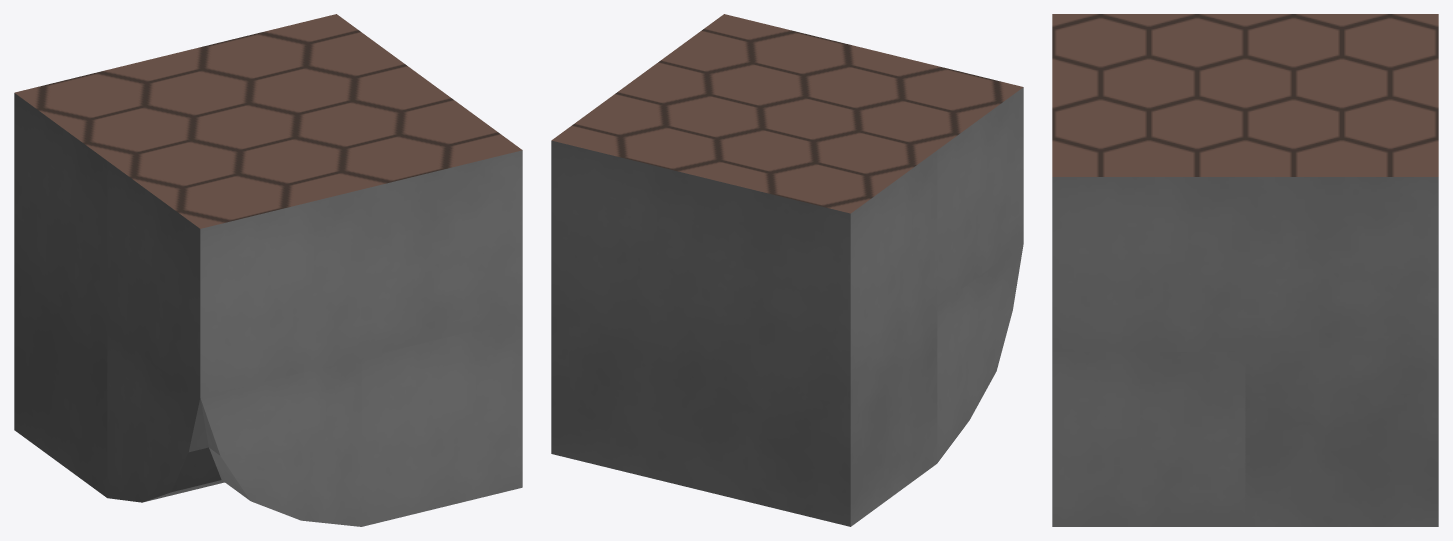
File: dc_metro_mezzanine_4d.obj
3 views of the same model, side by side, from view 1: azimuth 30°, elevation 25°; view 2: azimuth 150°, elevation 25°; view 3: azimuth 270°, elevation 25° (orthographic). The views are drawn at different scales.
Parts seen in each view (by area): view 1: cube; view 2: cube; view 3: cube.
Boxes of the visible parts, x1=… form: cube: x1=14, y1=14, x2=522, y2=526; cube: x1=551, y1=14, x2=1023, y2=526; cube: x1=1052, y1=14, x2=1438, y2=526.
Size of the model in its own units: 1 by 1 by 1.
Materials: 3 (3 with a texture image).
